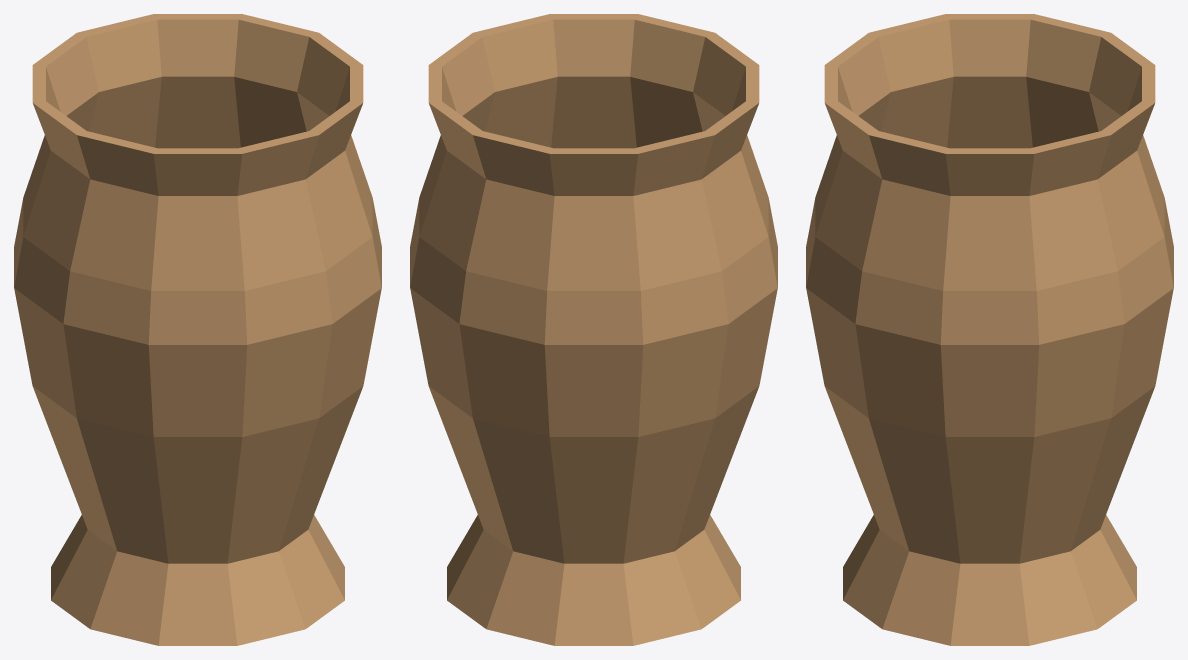
File: Prop_Vase.fbx
3 renders of one model, left to right at view 1: azimuth 30°, elevation 25°; view 2: azimuth 150°, elevation 25°; view 3: azimuth 270°, elevation 25°, orthographic.
Visible parts, largest first — view 1: object1; view 2: object1; view 3: object1.
Boxes of the visible parts, box(x1,y1,x2,y2) form: object1: box(14, 14, 381, 645); object1: box(410, 14, 777, 645); object1: box(806, 14, 1173, 645).
Size of the model in its own units: 0.25 by 0.375 by 0.25.
